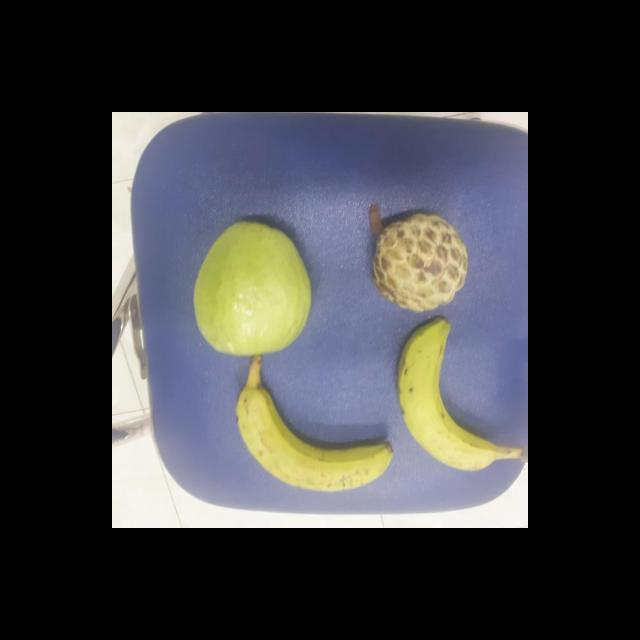Sakya fruit: (371, 214, 467, 316)
banana: (232, 362, 398, 491), (398, 316, 507, 478)
guava: (193, 221, 312, 358)
